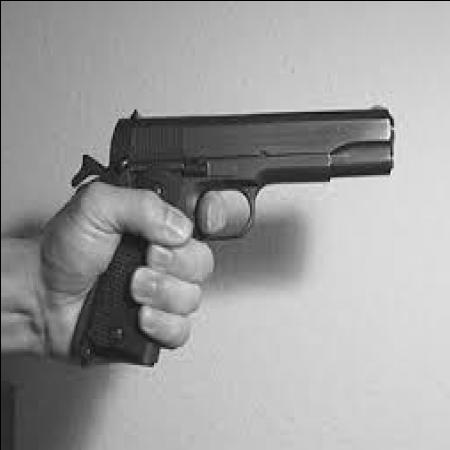Pistol: (64, 91, 398, 366)
